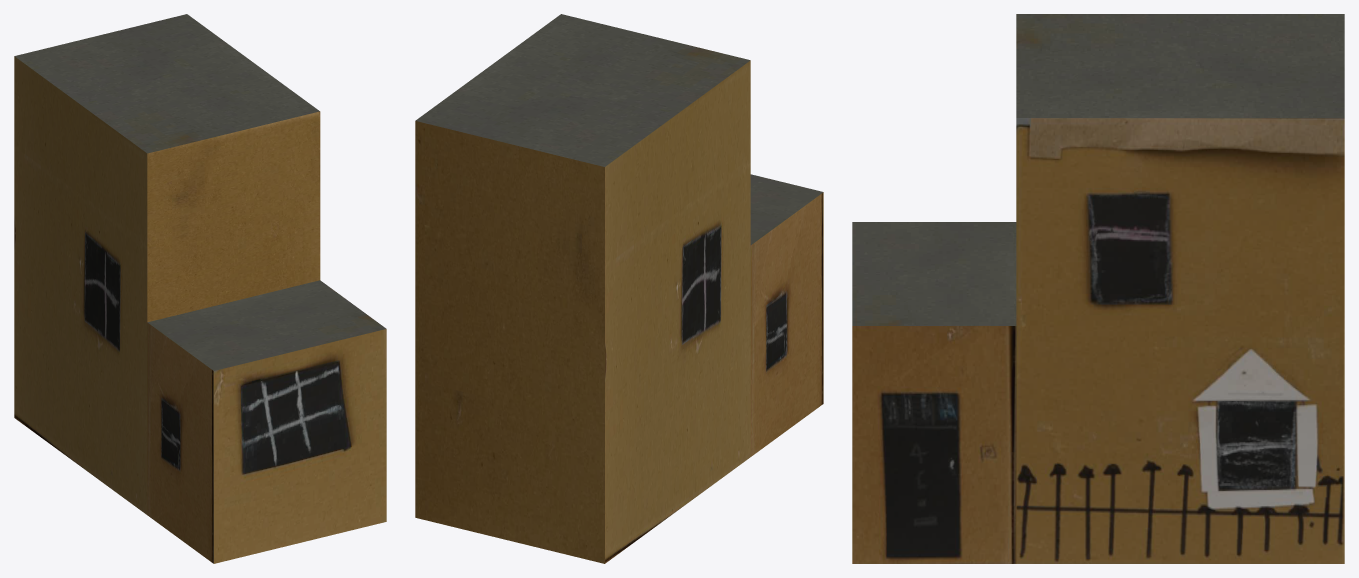
The picture shows the model from 3 angles, left to right: view 1: azimuth 30°, elevation 25°; view 2: azimuth 150°, elevation 25°; view 3: azimuth 270°, elevation 25°; orthographic projection. The views are drawn at different scales.
Visible parts, largest first — view 1: Cube, Cube.001; view 2: Cube, Cube.001; view 3: Cube, Cube.001.
Part boxes in pixels (x1,y1,x2,y2): Cube: [14, 56, 386, 563]; Cube.001: [14, 14, 319, 153]; Cube: [415, 60, 823, 563]; Cube.001: [415, 14, 750, 166]; Cube: [852, 118, 1344, 563]; Cube.001: [1016, 14, 1344, 117].
Bounding box in the file's own units: 7.5 × 15 × 15.
Materials: 1 (1 with a texture image).
